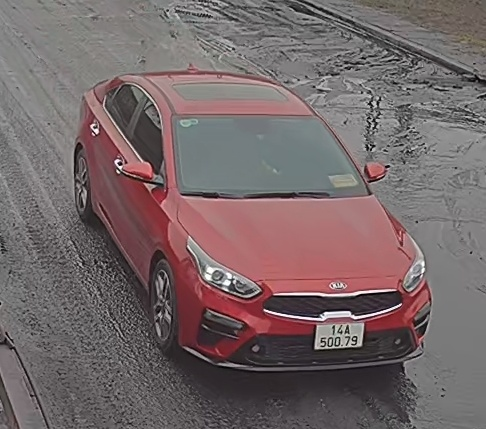vehicle plate: (313, 318, 375, 351)
